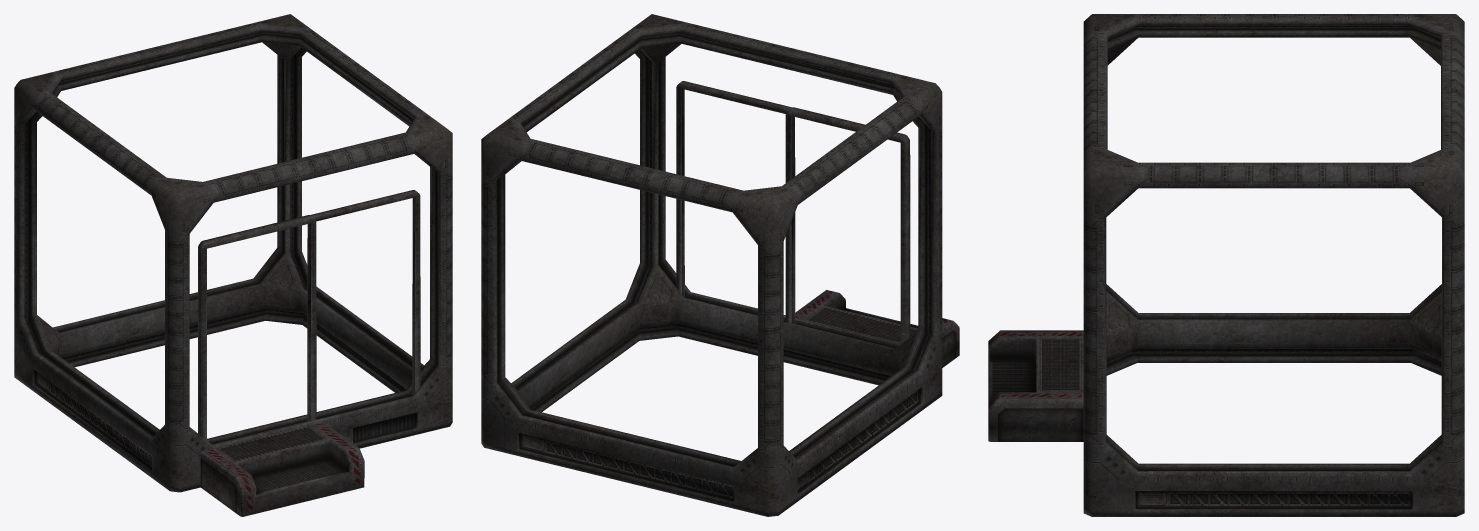
File: 03_02_containment_cube.dae
The picture shows the model from 3 angles, left to right: view 1: azimuth 30°, elevation 25°; view 2: azimuth 150°, elevation 25°; view 3: azimuth 270°, elevation 25°; orthographic projection. The views are drawn at different scales.
Parts seen in each view (by area): view 1: polySurface9; view 2: polySurface9; view 3: polySurface9.
Part boxes in pixels (x1,y1,x2,y2): polySurface9: (14,14,452,516); polySurface9: (481,14,959,516); polySurface9: (988,14,1464,516).
Bounding box in the file's own units: 4 × 4 × 5.
